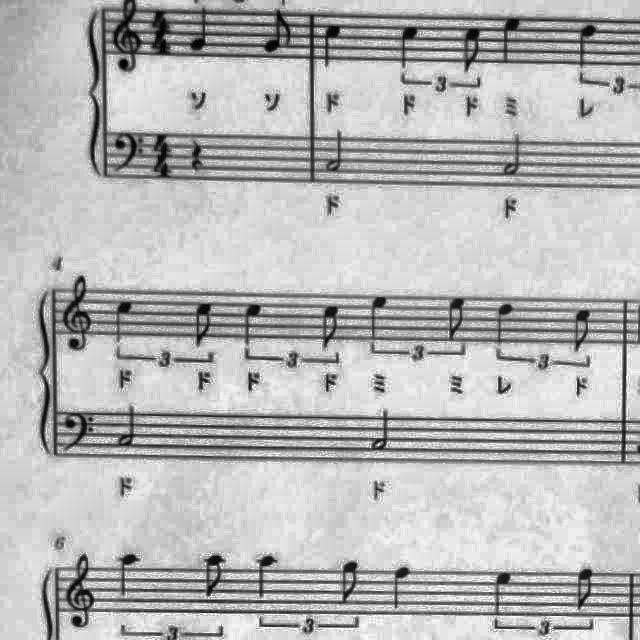Bass-clef: (60, 404, 100, 456), (111, 126, 149, 178)
Eighth-note: (258, 7, 298, 59), (456, 21, 488, 79), (188, 296, 222, 350), (198, 548, 232, 602), (314, 299, 346, 353), (442, 291, 474, 345), (566, 306, 598, 358), (568, 564, 600, 616), (336, 554, 366, 606)
Half-note: (498, 128, 534, 180), (323, 124, 352, 176), (365, 406, 395, 456), (113, 400, 141, 452)
Quarter-note: (496, 10, 528, 68), (250, 548, 284, 602), (115, 547, 149, 601), (570, 18, 602, 74), (392, 19, 424, 73), (108, 294, 138, 350), (237, 298, 269, 350), (488, 296, 520, 348), (317, 19, 347, 73), (362, 290, 392, 344), (488, 567, 518, 621), (386, 562, 414, 616), (184, 4, 213, 56)
Quarter-rest: (183, 135, 209, 179)
Treble-clef: (56, 273, 100, 359), (62, 550, 101, 634), (110, 0, 148, 76)
